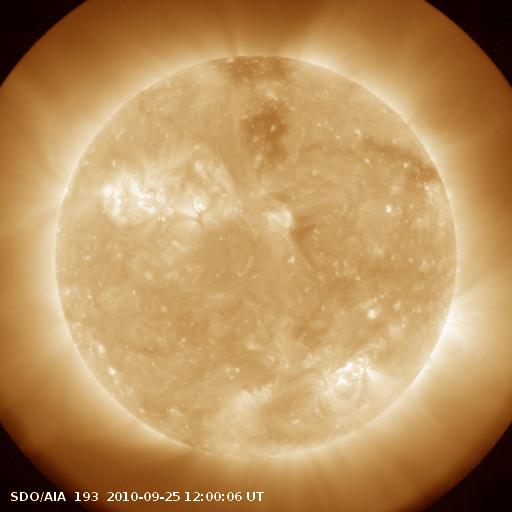coronal_hole: (209, 52, 308, 169)
